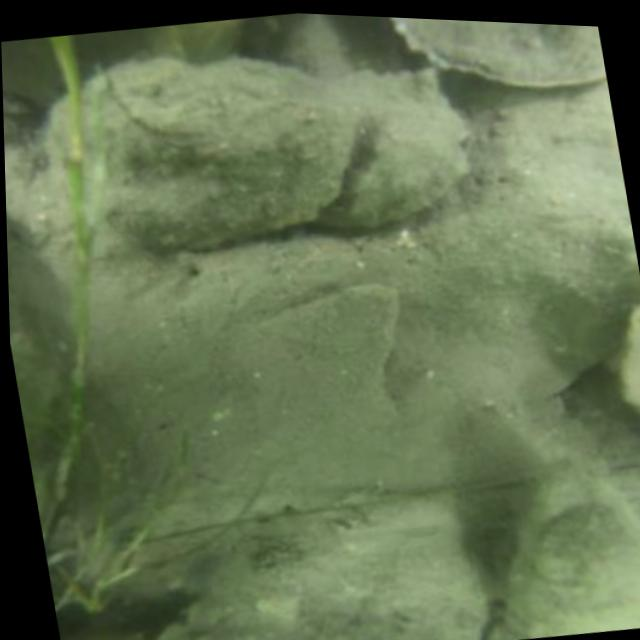Oyster-Closed: (490, 476, 640, 640)
Oyster-Indeterminate: (42, 58, 353, 253), (325, 63, 469, 225), (620, 306, 640, 415)
